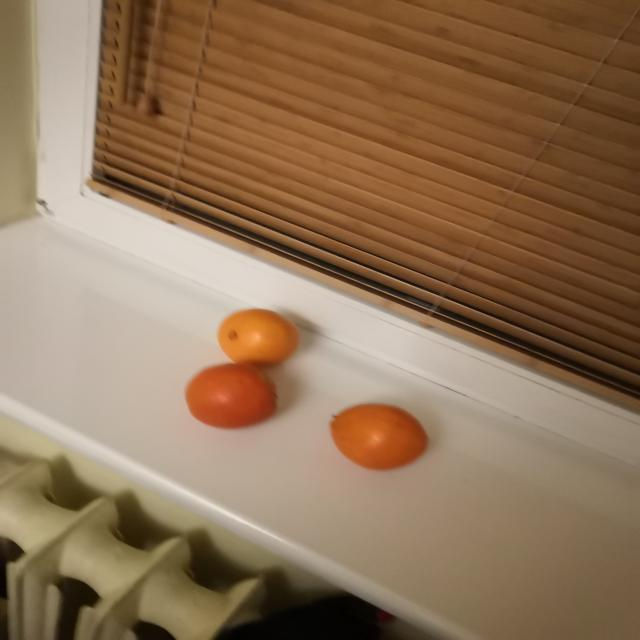orange: (330, 404, 428, 470), (185, 364, 277, 429), (218, 309, 300, 365)
